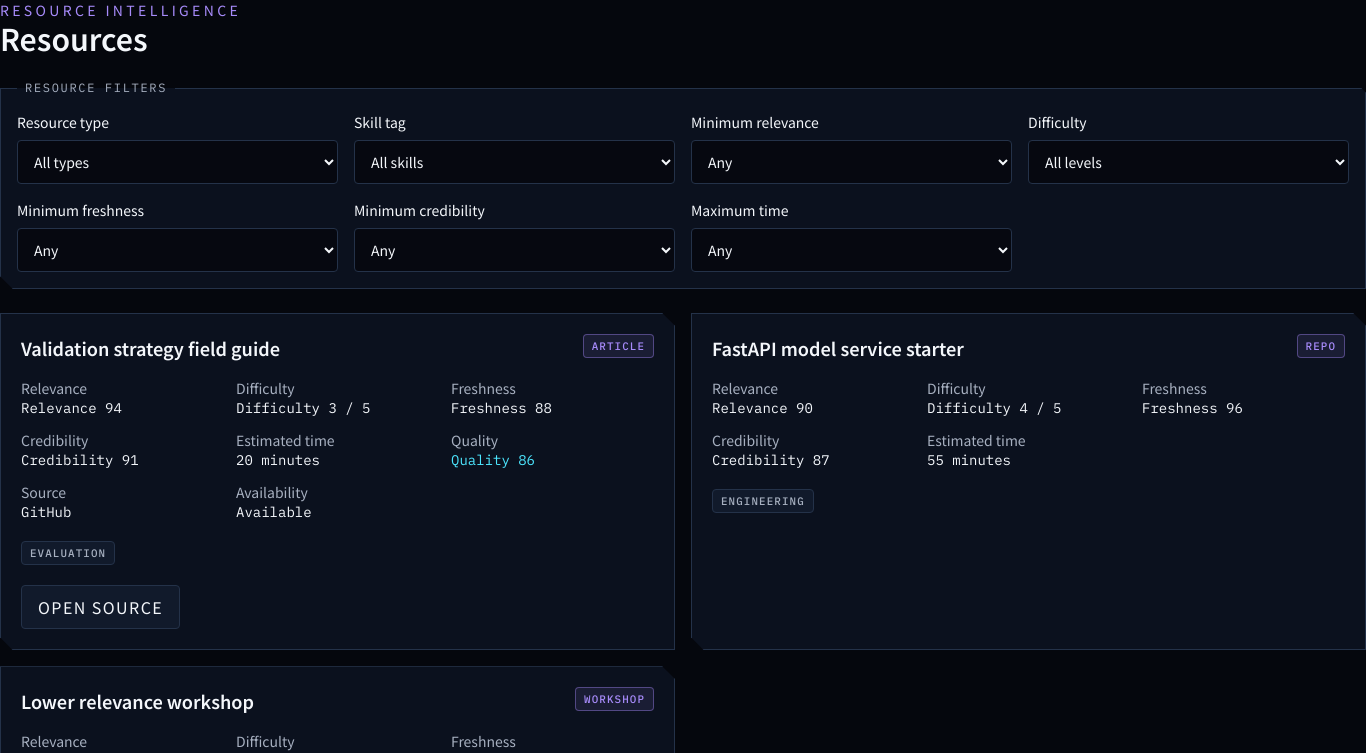
Scenario: ResourceLibrary › applies the Minimum relevance filter behavior
Select "90+" in the dropdown labelled "Minimum relevance" at [852, 162], box [691, 140, 1012, 184]
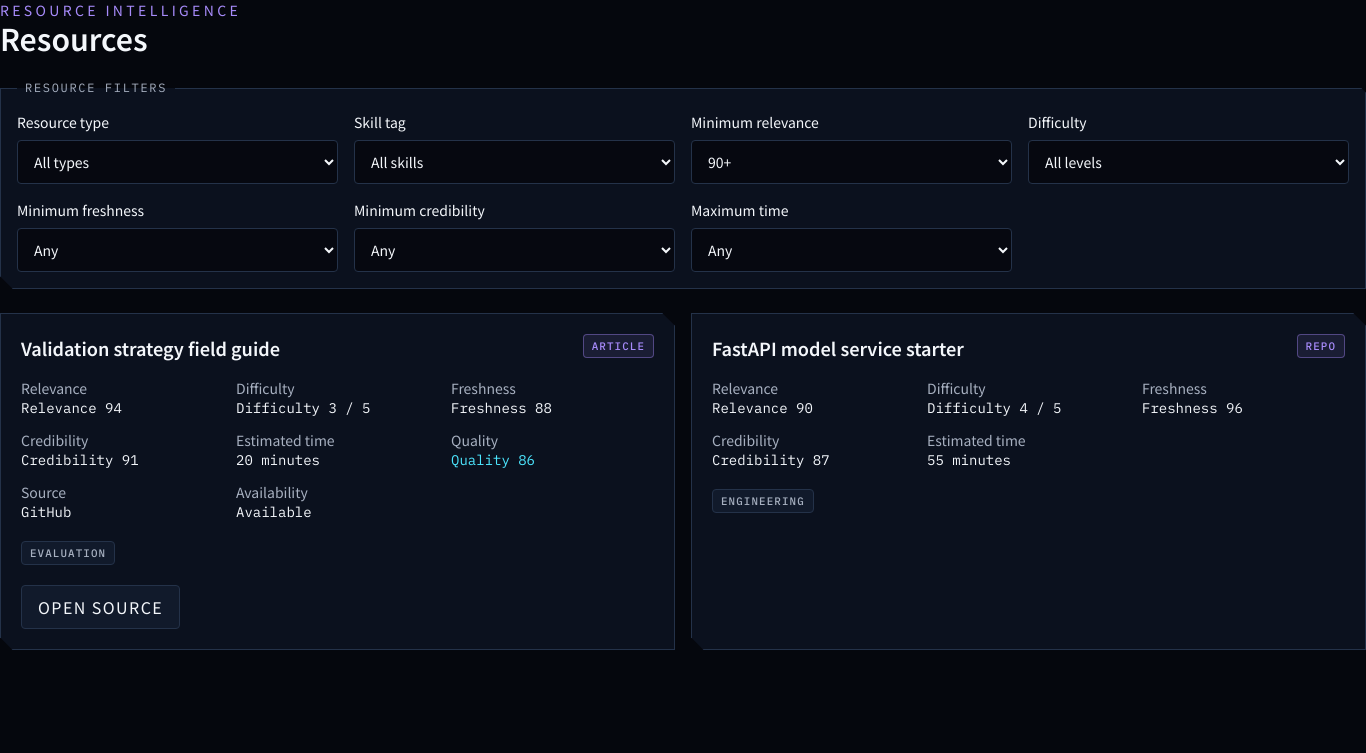
Expected: the heading "Validation strategy field guide" is shown, [21, 334, 280, 362]
Expected: the heading "Lower relevance workshop" is gone
